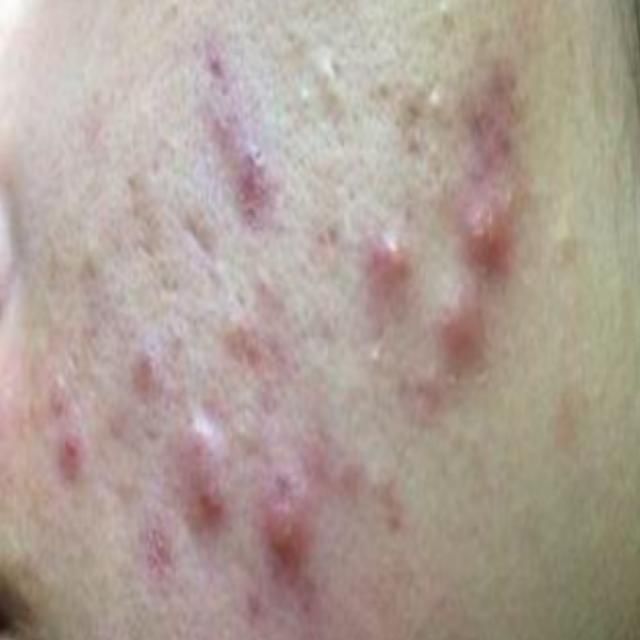nodule: (176, 428, 231, 522), (463, 189, 508, 270), (438, 287, 484, 363), (366, 224, 412, 297), (260, 500, 300, 551)
